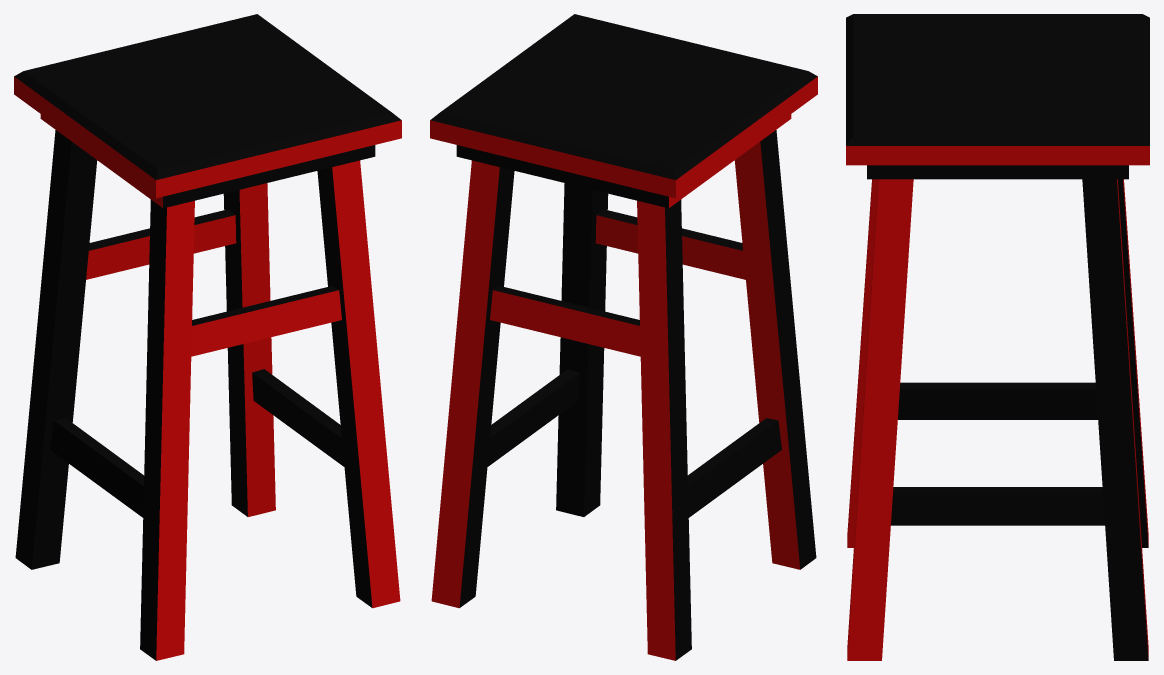
File: Stool_3.fbx
3 views of the same model, side by side, from view 1: azimuth 30°, elevation 25°; view 2: azimuth 150°, elevation 25°; view 3: azimuth 270°, elevation 25° (orthographic). The views are drawn at different scales.
Visible parts, largest first — view 1: Stool_3; view 2: Stool_3; view 3: Stool_3.
Part boxes in pixels (bbox=[...]): Stool_3: bbox=[14, 14, 401, 660]; Stool_3: bbox=[430, 14, 817, 660]; Stool_3: bbox=[846, 14, 1149, 660].
Bounding box in the file's own units: 39.52 × 39.52 × 74.97.
